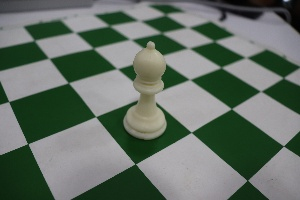white_bishop: (112, 29, 181, 147)
